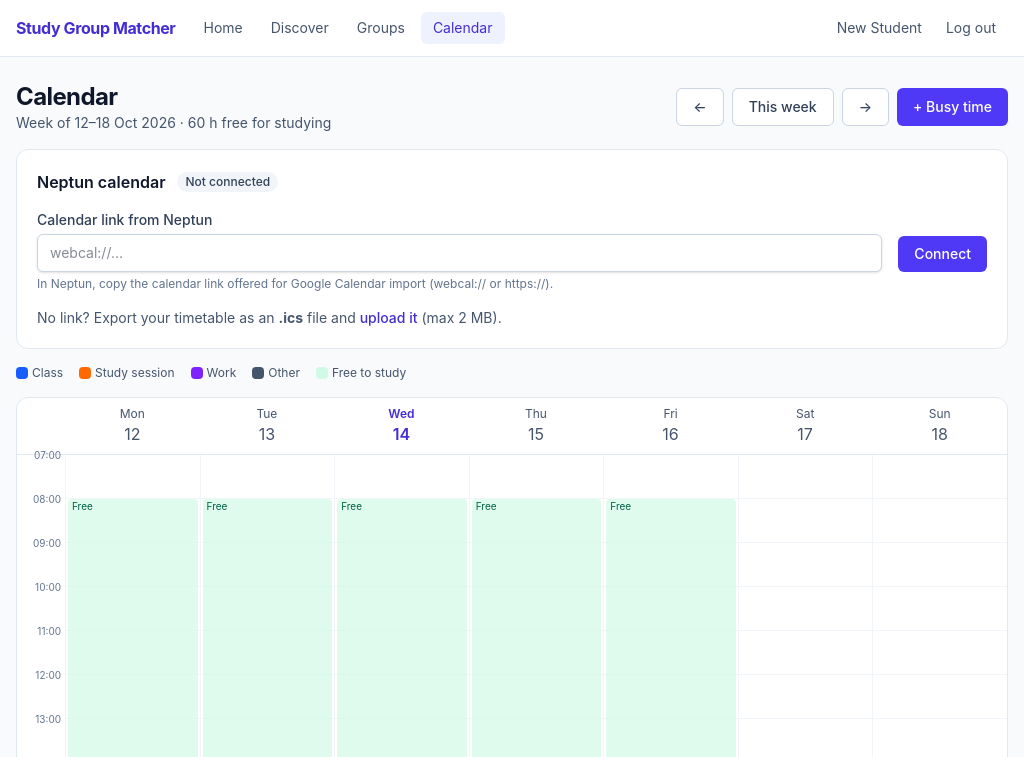
Neptun panel › shows the error when the feed cannot be fetched
Type "https://unreachable.example/cal.ics" into the field labelled "Calendar link from Neptun". click: (460, 253)
box: [37,234,882,272]
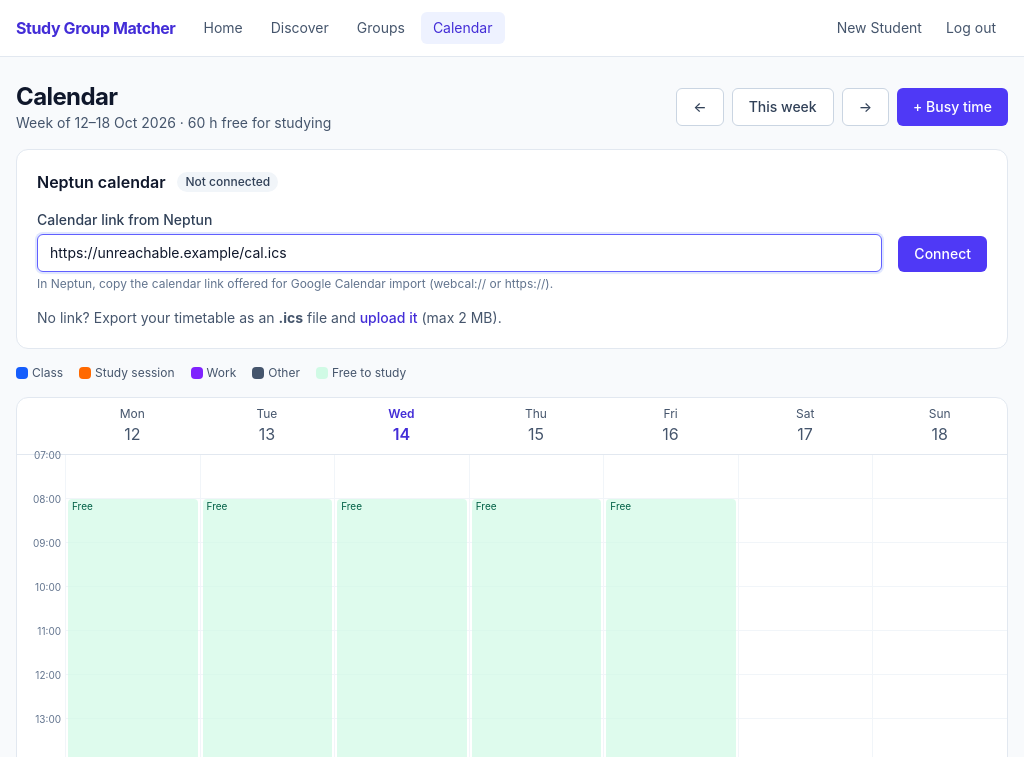
Click the button "Connect". click: (943, 254)
box: [898,236,987,272]
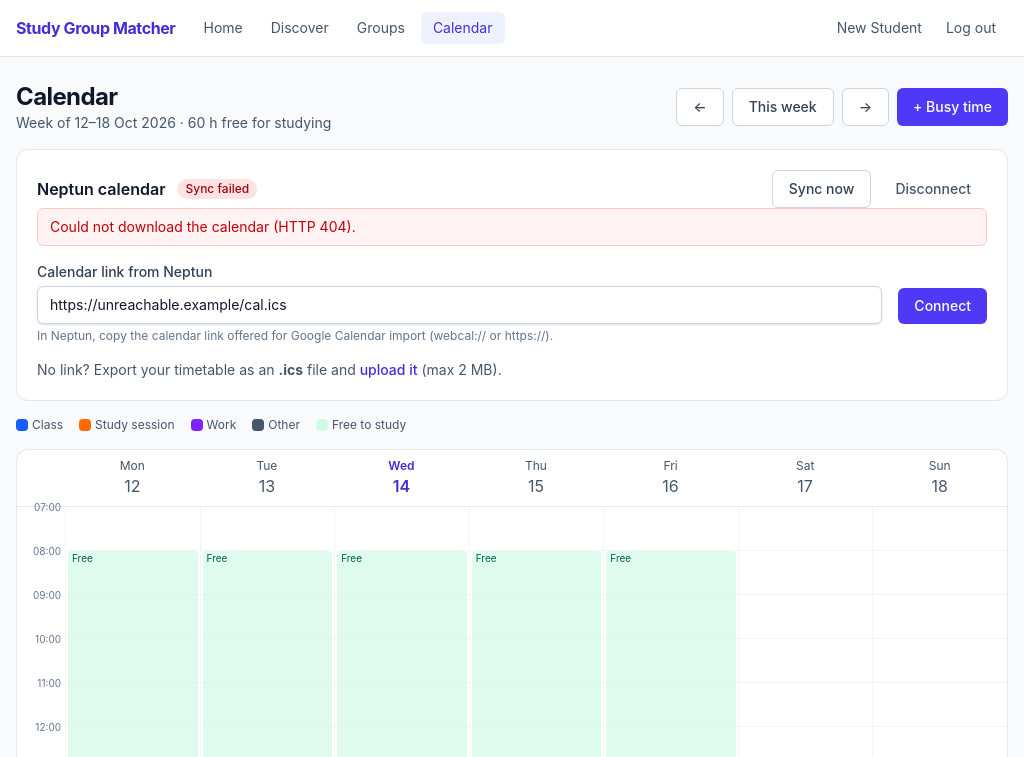
Expected: the text "Sync failed" is shown, [178,179,257,199]
Expected: the message reads "Could not download the calendar (HTTP 404).", [50,218,356,235]
Note: a failing sync switches on the contract code
Click the button "Sync now". click: (822, 189)
box: [772,170,871,208]
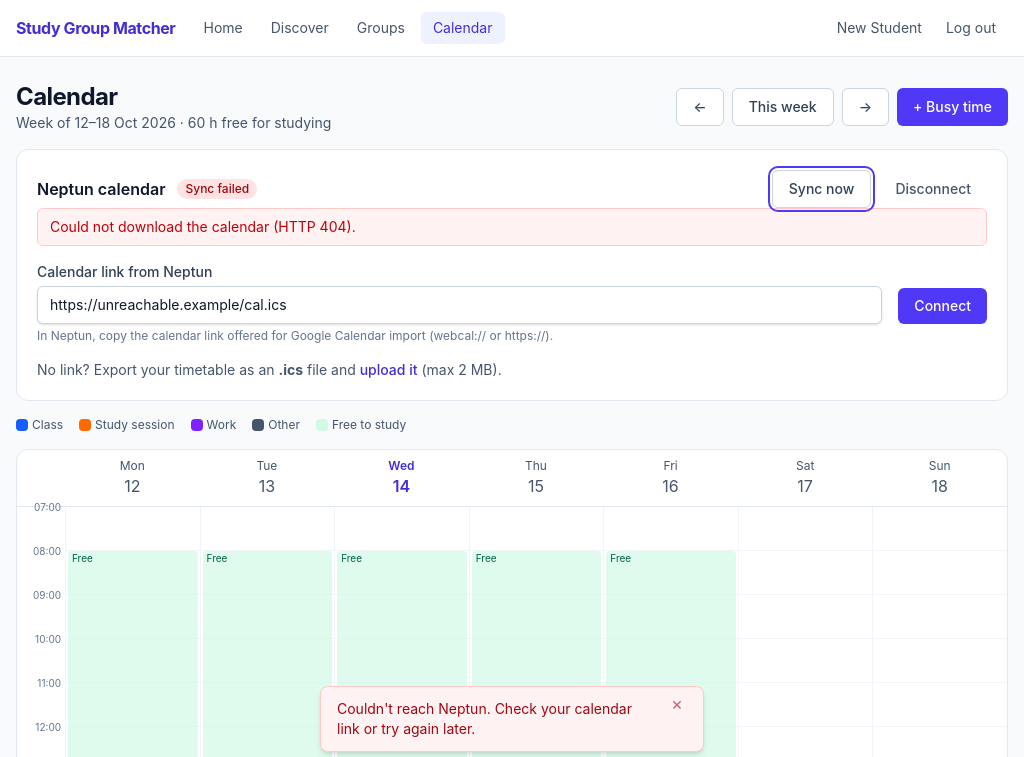
Expected: the text "Couldn't reach Neptun" is shown, [337,700,632,737]
